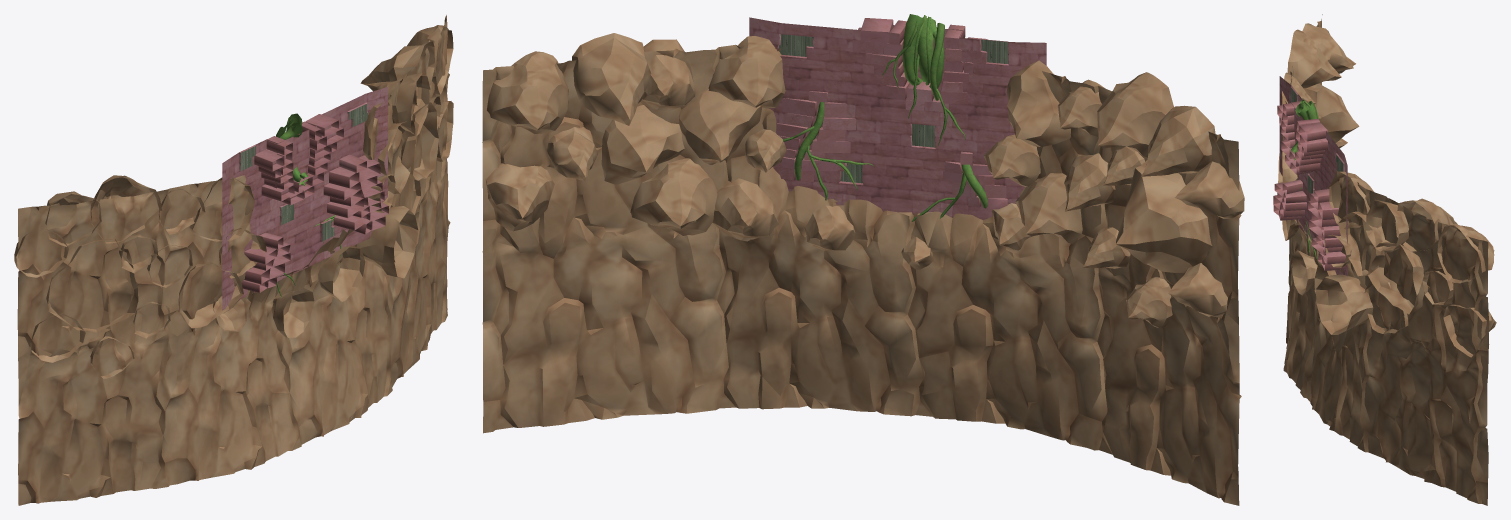
File: SM_ENV_KNFRST_Cliff_Cb.FBX
The picture shows the model from 3 angles, left to right: view 1: azimuth 30°, elevation 25°; view 2: azimuth 150°, elevation 25°; view 3: azimuth 270°, elevation 25°; orthographic projection. The views are drawn at different scales.
Parts seen in each view (by area): view 1: SM_ENV_KNFRST_Cliff_Cb; view 2: SM_ENV_KNFRST_Cliff_Cb; view 3: SM_ENV_KNFRST_Cliff_Cb.
Part boxes in pixels (x1,y1,x2,y2): SM_ENV_KNFRST_Cliff_Cb: (14,15,453,505); SM_ENV_KNFRST_Cliff_Cb: (482,14,1244,505); SM_ENV_KNFRST_Cliff_Cb: (1273,14,1496,505).
Bounding box in the file's own units: 5801 × 3462 × 2382.
